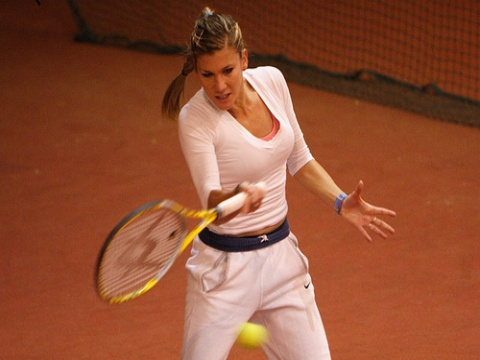hand: (342, 178, 397, 244)
